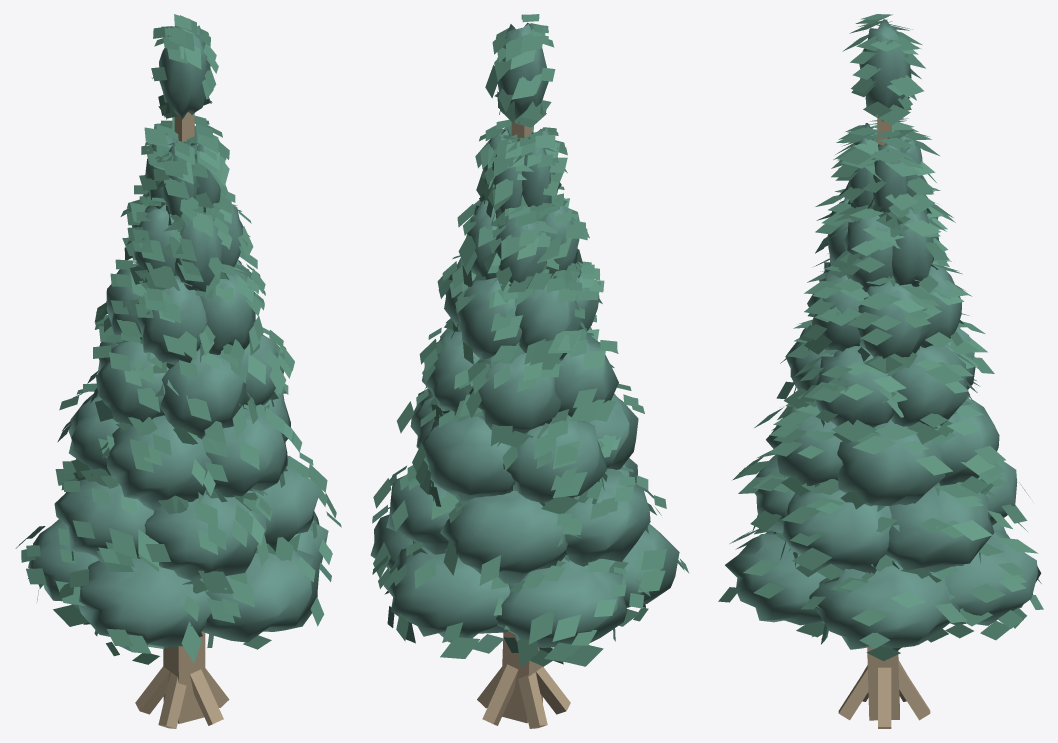
File: spruce.glb
The picture shows the model from 3 angles, left to right: view 1: azimuth 30°, elevation 25°; view 2: azimuth 150°, elevation 25°; view 3: azimuth 270°, elevation 25°; orthographic projection.
Parts seen in each view (by area): view 1: SourceMesh_00078, SourceMesh_00044, SourceMesh_00043, SourceMesh_00048, SourceMesh_00053, SourceMesh_00057, SourceMesh_00049, SourceMesh_00052, SourceMesh_00058, SourceMesh_00047, SourceMesh_00062, SourceMesh_00066 (+15 smaller); view 2: SourceMesh_00078, SourceMesh_00050, SourceMesh_00046, SourceMesh_00045, SourceMesh_00055, SourceMesh_00049, SourceMesh_00054, SourceMesh_00059, SourceMesh_00064, SourceMesh_00051, SourceMesh_00063, SourceMesh_00058 (+15 smaller); view 3: SourceMesh_00078, SourceMesh_00042, SourceMesh_00051, SourceMesh_00047, SourceMesh_00056, SourceMesh_00043, SourceMesh_00046, SourceMesh_00060, SourceMesh_00061, SourceMesh_00052, SourceMesh_00065, SourceMesh_00055 (+15 smaller).
Part boxes in pixels (<box>): SourceMesh_00078: <box>15,14,341,664</box>; SourceMesh_00044: <box>78,557,211,651</box>; SourceMesh_00043: <box>202,549,319,642</box>; SourceMesh_00048: <box>144,494,266,580</box>; SourceMesh_00053: <box>107,415,211,510</box>; SourceMesh_00057: <box>161,348,246,439</box>; SourceMesh_00049: <box>54,477,153,562</box>; SourceMesh_00052: <box>206,408,287,497</box>; SourceMesh_00058: <box>96,341,168,425</box>; SourceMesh_00047: <box>247,455,321,551</box>; SourceMesh_00062: <box>137,278,207,364</box>; SourceMesh_00066: <box>199,270,255,354</box>; SourceMesh_00078: <box>372,14,689,667</box>; SourceMesh_00050: <box>440,490,568,583</box>; SourceMesh_00046: <box>383,546,510,642</box>; SourceMesh_00045: <box>496,557,627,647</box>; SourceMesh_00055: <box>418,413,515,501</box>; SourceMesh_00049: <box>564,468,650,566</box>; SourceMesh_00054: <box>503,415,607,504</box>; SourceMesh_00059: <box>469,353,560,433</box>; SourceMesh_00064: <box>455,277,522,359</box>; SourceMesh_00051: <box>386,457,451,554</box>; SourceMesh_00063: <box>515,284,581,360</box>; SourceMesh_00058: <box>554,332,618,421</box>; SourceMesh_00078: <box>718,14,1043,661</box>; SourceMesh_00042: <box>809,561,960,649</box>; SourceMesh_00051: <box>886,482,994,572</box>; SourceMesh_00047: <box>783,490,891,573</box>; SourceMesh_00056: <box>837,419,945,506</box>; SourceMesh_00043: <box>725,531,826,625</box>; SourceMesh_00046: <box>945,530,1041,625</box>; SourceMesh_00060: <box>891,345,967,428</box>; SourceMesh_00061: <box>815,346,893,427</box>; SourceMesh_00052: <box>766,406,842,485</box>; SourceMesh_00065: <box>854,281,929,358</box>; SourceMesh_00055: <box>934,398,999,485</box>.
Bounding box in the file's own units: 2.26 × 5.27 × 2.23.
